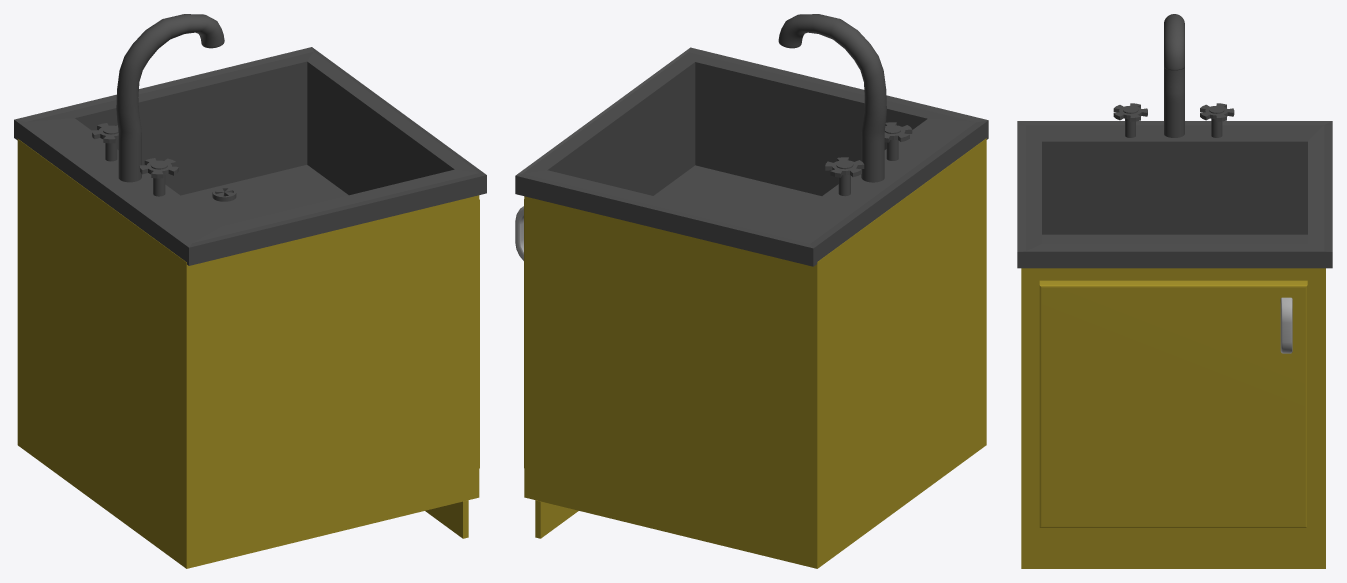
File: Sink Unit.fbx
3 views of the same model, side by side, from view 1: azimuth 30°, elevation 25°; view 2: azimuth 150°, elevation 25°; view 3: azimuth 270°, elevation 25° (orthographic). The views are drawn at different scales.
Visible parts, largest first — view 1: Sink_Unit; view 2: Sink_Unit; view 3: Sink_Unit.
Part boxes in pixels (x1,y1,x2,y2): Sink_Unit: (14,14,486,568); Sink_Unit: (515,14,988,568); Sink_Unit: (1017,14,1332,568).
Size of the model in its own units: 110 by 166 by 103.
